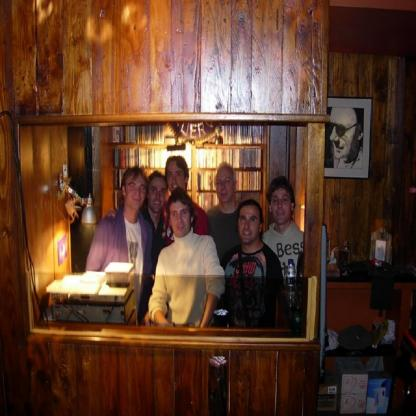book: (113, 147, 192, 168), (118, 168, 191, 189), (196, 145, 262, 168), (208, 123, 264, 148), (196, 169, 262, 189), (110, 126, 177, 145), (195, 190, 218, 211), (237, 192, 261, 204)
